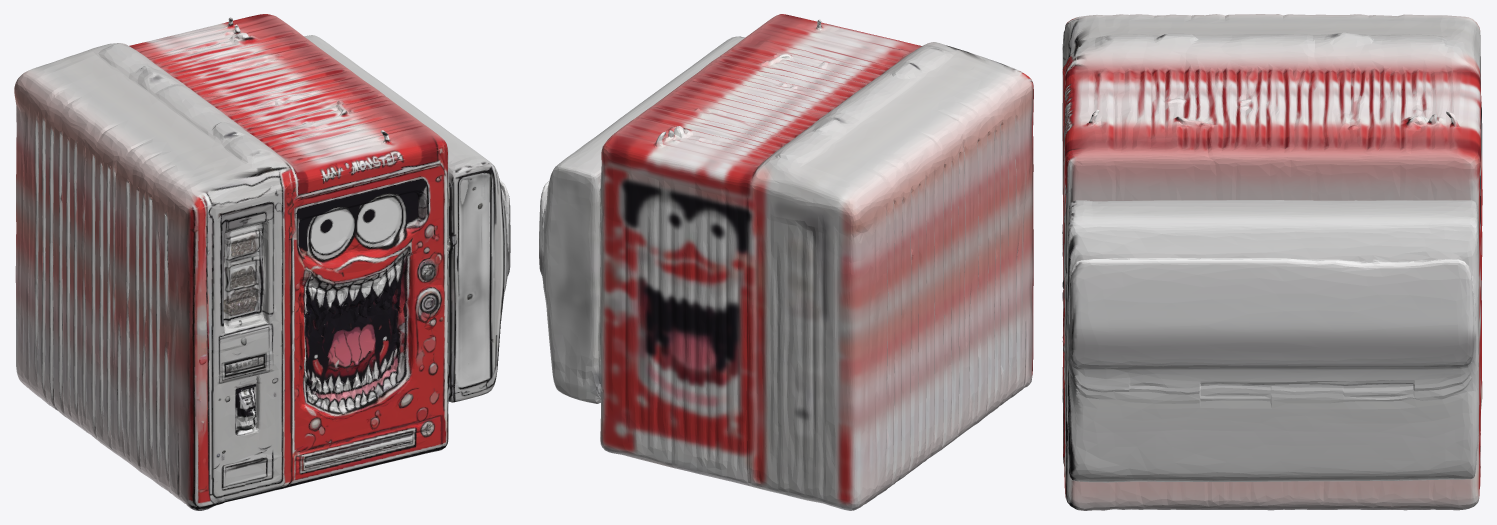
Rendered from vending_mimic_local.glb.
The picture shows the model from 3 angles, left to right: view 1: azimuth 30°, elevation 25°; view 2: azimuth 150°, elevation 25°; view 3: azimuth 270°, elevation 25°; orthographic projection. The views are drawn at different scales.
Visible parts, largest first — view 1: geometry_0; view 2: geometry_0; view 3: geometry_0.
Part boxes in pixels (x1,y1,x2,y2): geometry_0: [14, 14, 510, 510]; geometry_0: [539, 14, 1033, 510]; geometry_0: [1062, 14, 1482, 510].
Size of the model in its own units: 2.14 by 2.1 by 2.08.
1 material, 1 textured.
